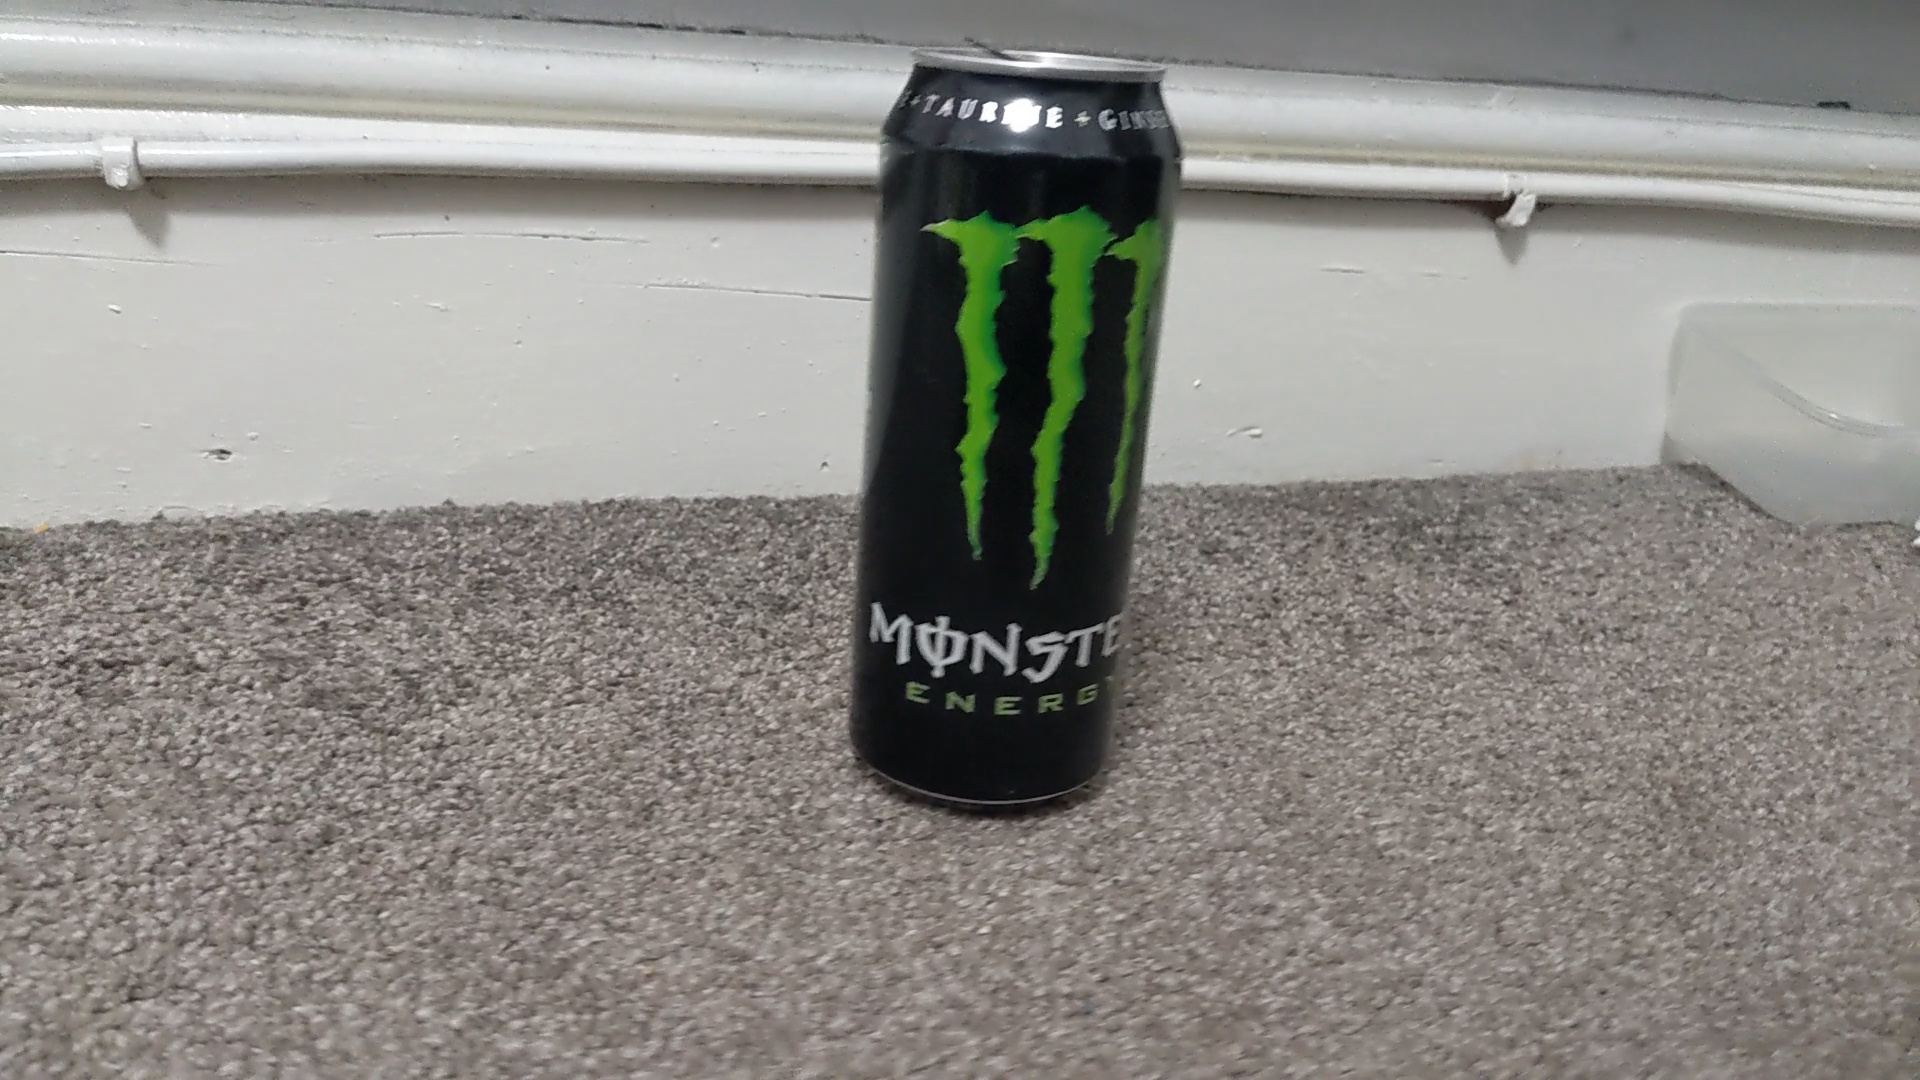monster-original: (841, 44, 1187, 811)
